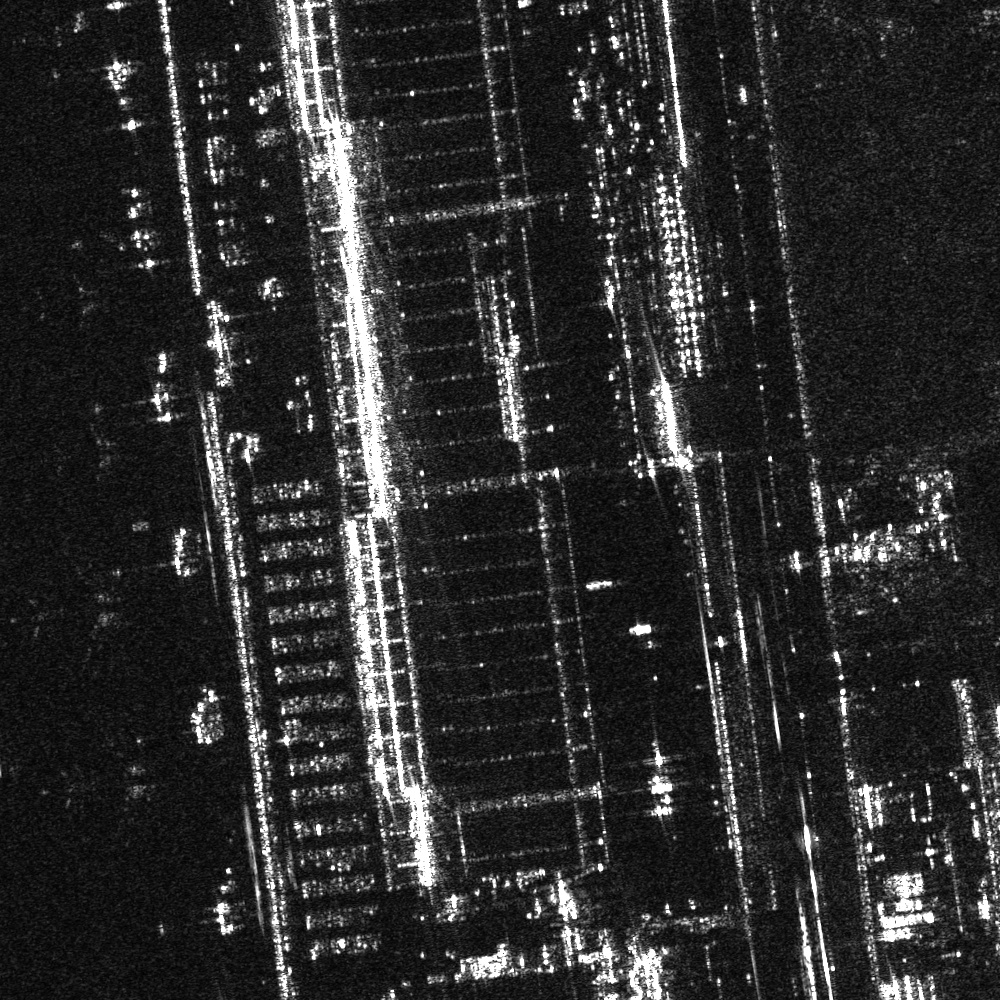Boeing787: (4, 552, 138, 677), (48, 731, 170, 839), (52, 410, 136, 482)
